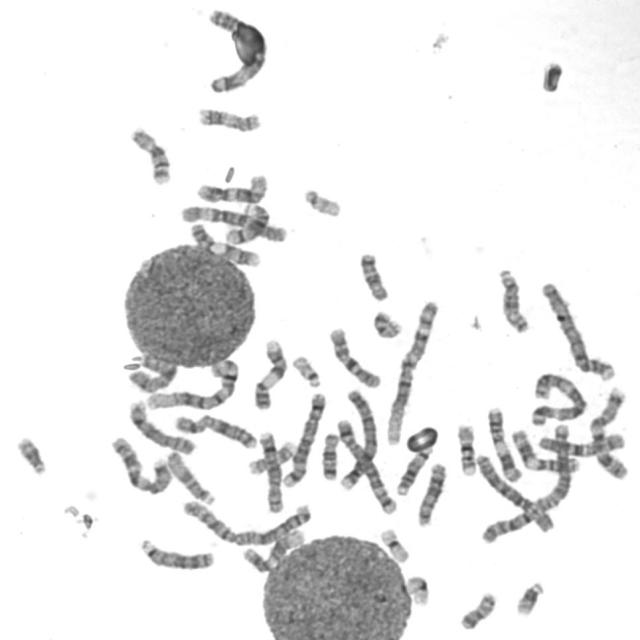A1: (382, 297, 442, 448), (142, 356, 242, 412)
A2: (476, 444, 560, 543), (176, 494, 312, 548)
A3: (204, 5, 269, 96), (527, 369, 590, 426)
B4: (538, 277, 617, 383), (336, 386, 378, 492)
B5: (333, 414, 400, 516), (278, 388, 328, 490)
C10: (324, 323, 384, 390), (533, 428, 627, 458)
C11: (508, 426, 584, 474), (484, 402, 524, 483)
C12: (239, 525, 307, 575), (193, 170, 270, 205)
C6: (473, 449, 557, 535), (176, 202, 290, 244)
C7: (586, 383, 632, 483), (107, 432, 174, 496)
C8: (125, 397, 198, 457), (256, 427, 286, 513)
C9: (185, 220, 264, 268), (250, 335, 288, 412)
D13: (136, 535, 216, 572), (414, 459, 448, 528)
D14: (220, 201, 271, 247), (393, 445, 435, 497)
D15: (164, 447, 218, 506), (494, 265, 532, 334)
E16: (125, 123, 173, 187), (453, 420, 479, 478)
E17: (194, 104, 263, 134), (245, 437, 298, 476)
E18: (356, 248, 391, 303), (318, 429, 341, 482)
F19: (376, 524, 412, 565), (403, 571, 432, 608)
F20: (456, 588, 498, 632), (369, 307, 404, 339)
G21: (12, 433, 48, 476), (512, 577, 547, 618)
G22: (300, 184, 344, 218), (289, 352, 323, 389)
X: (171, 410, 259, 450), (123, 353, 180, 394)
